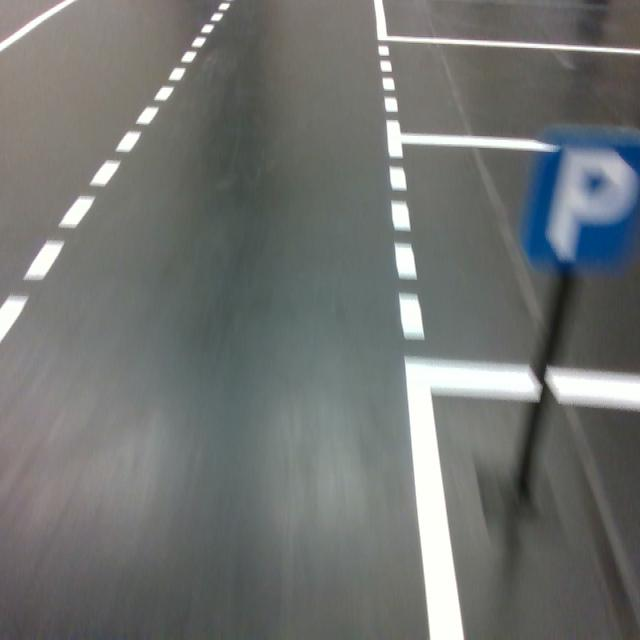parking-sign: (525, 130, 640, 270)
